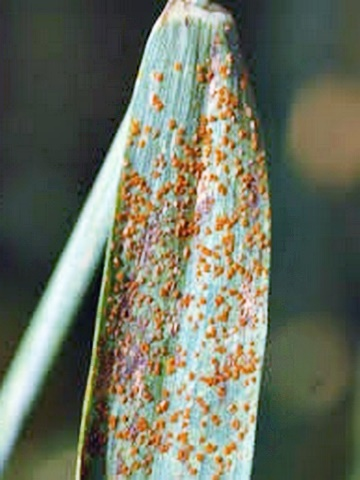Leaf Rust: (100, 50, 273, 480)
